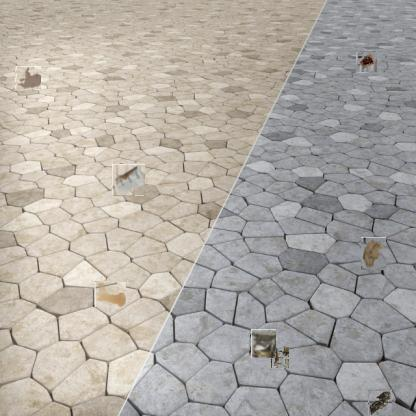dirty: (113, 164, 144, 195), (360, 237, 386, 270), (250, 330, 277, 357), (368, 390, 392, 416), (356, 52, 377, 72), (271, 346, 289, 368)
liquid: (95, 281, 126, 307), (16, 66, 42, 89)
